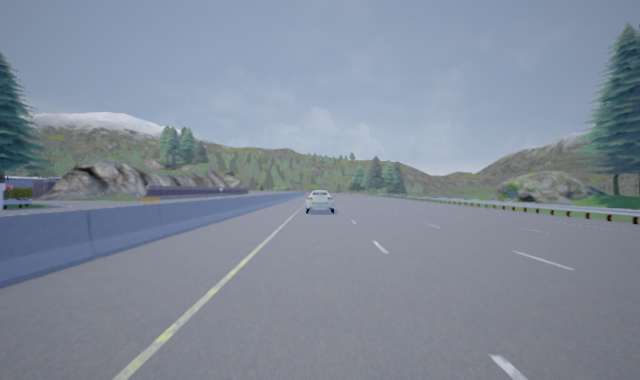vehicle: (304, 190, 335, 213)
